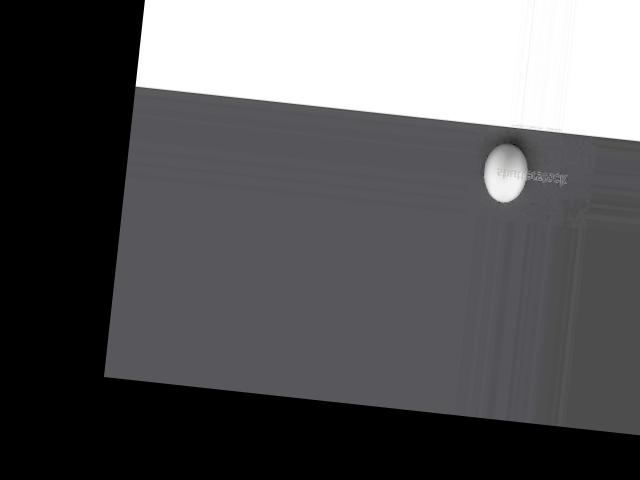egg: (480, 141, 529, 205)
